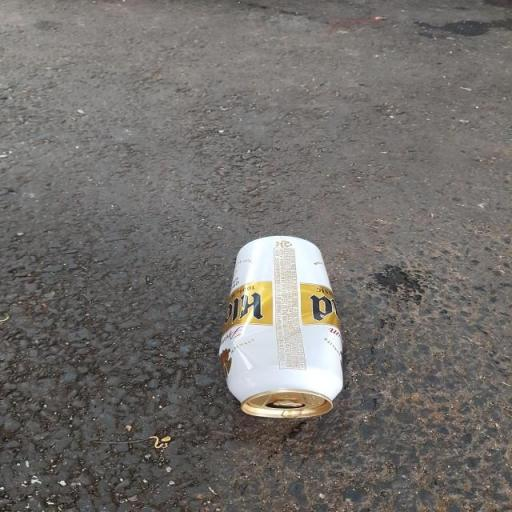metal: (179, 222, 410, 433)
